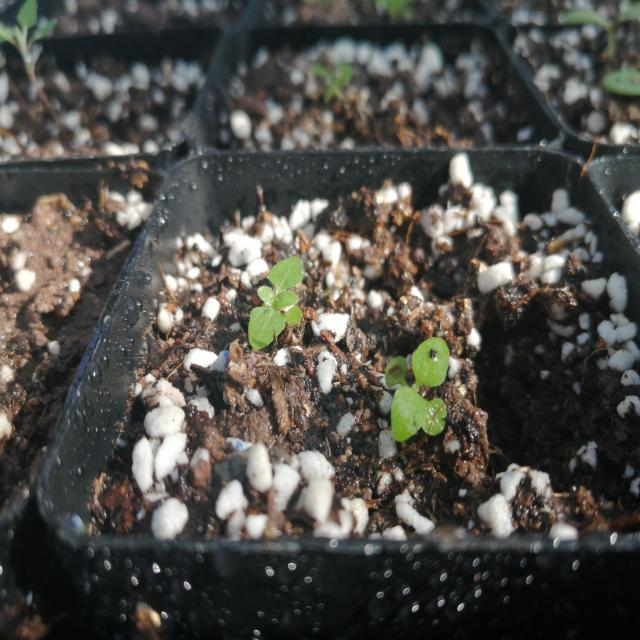billygoat_weed: (217, 240, 330, 366), (376, 322, 478, 444)
